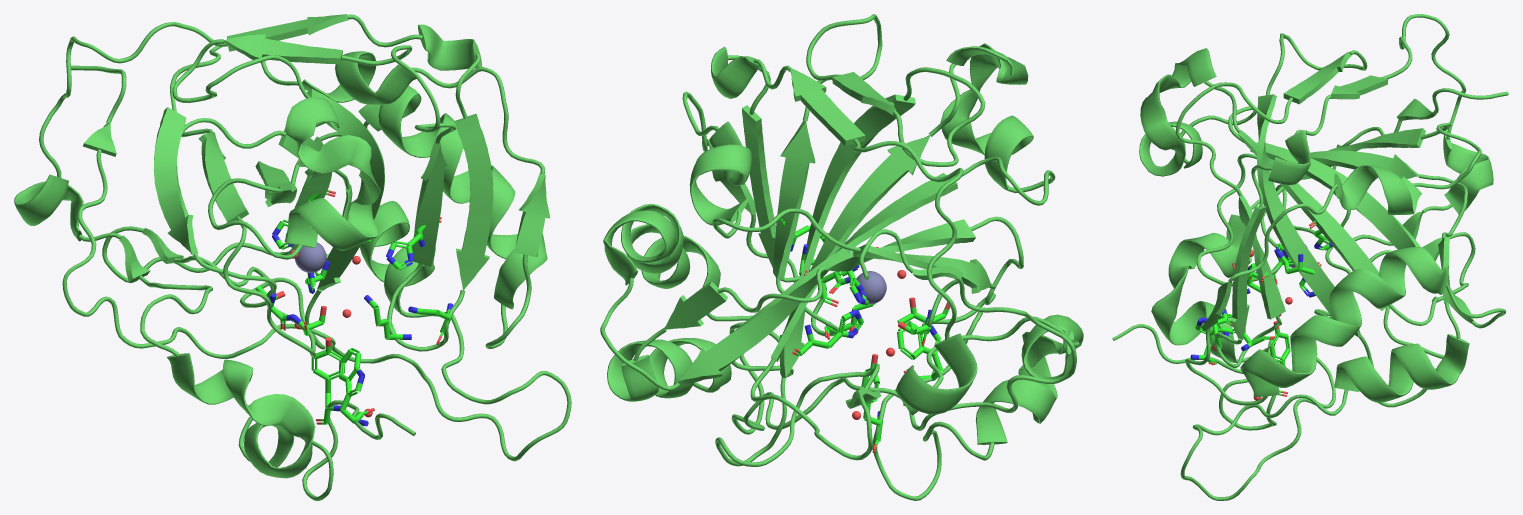
Rendered from carbonic_anhydrase.glb.
The picture shows the model from 3 angles, left to right: view 1: azimuth 30°, elevation 25°; view 2: azimuth 150°, elevation 25°; view 3: azimuth 270°, elevation 25°; orthographic projection. The views are drawn at different scales.
Visible parts, largest first — view 1: Object_2, Object_14; view 2: Object_2, Object_14; view 3: Object_2.
Boxes of the visible parts, left/top/right/bottom form: Object_2: left=14, top=14, right=571, bottom=500; Object_14: left=295, top=242, right=326, bottom=272; Object_2: left=600, top=14, right=1083, bottom=500; Object_14: left=856, top=271, right=886, bottom=304; Object_2: left=1112, top=14, right=1508, bottom=500.
Size of the model in its own units: 44.47 by 41.68 by 39.72.
